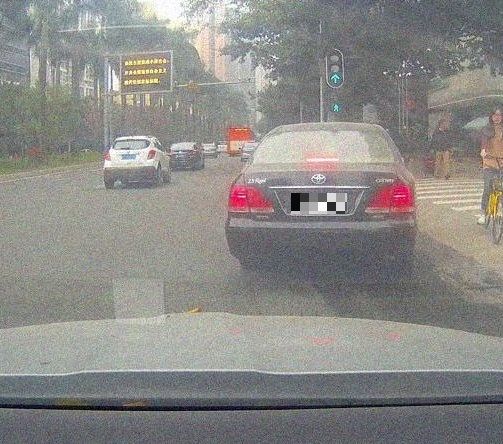L_light: (227, 185, 274, 213), (104, 152, 112, 161)
R_light: (364, 181, 415, 214), (146, 149, 156, 160)
T_light: (306, 158, 339, 162), (127, 140, 136, 142)
day-brake: (225, 122, 416, 258)
day-no: (102, 135, 157, 188)
plate_1: (291, 193, 347, 214)
